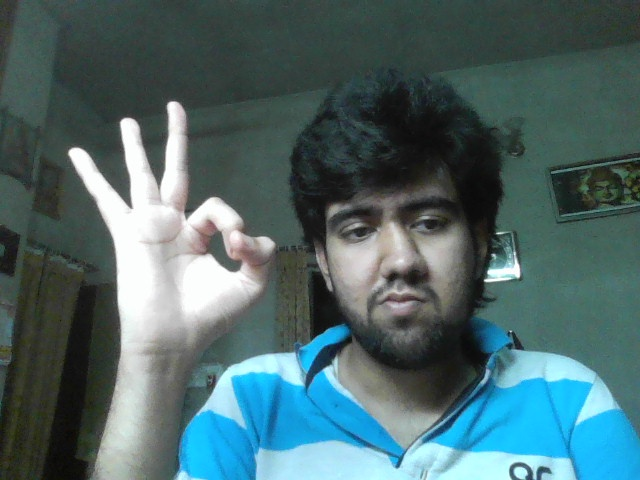Nice: (67, 101, 277, 342)
